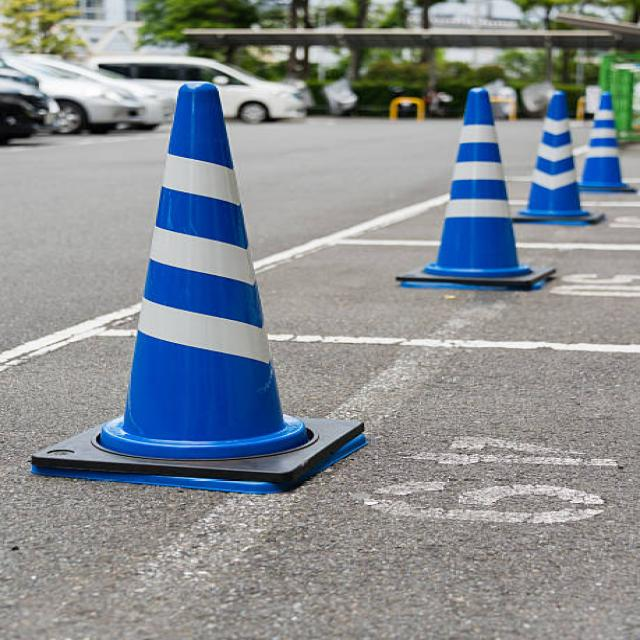Traffic Cone: (7, 49, 414, 535), (376, 70, 567, 314), (511, 85, 609, 244)
